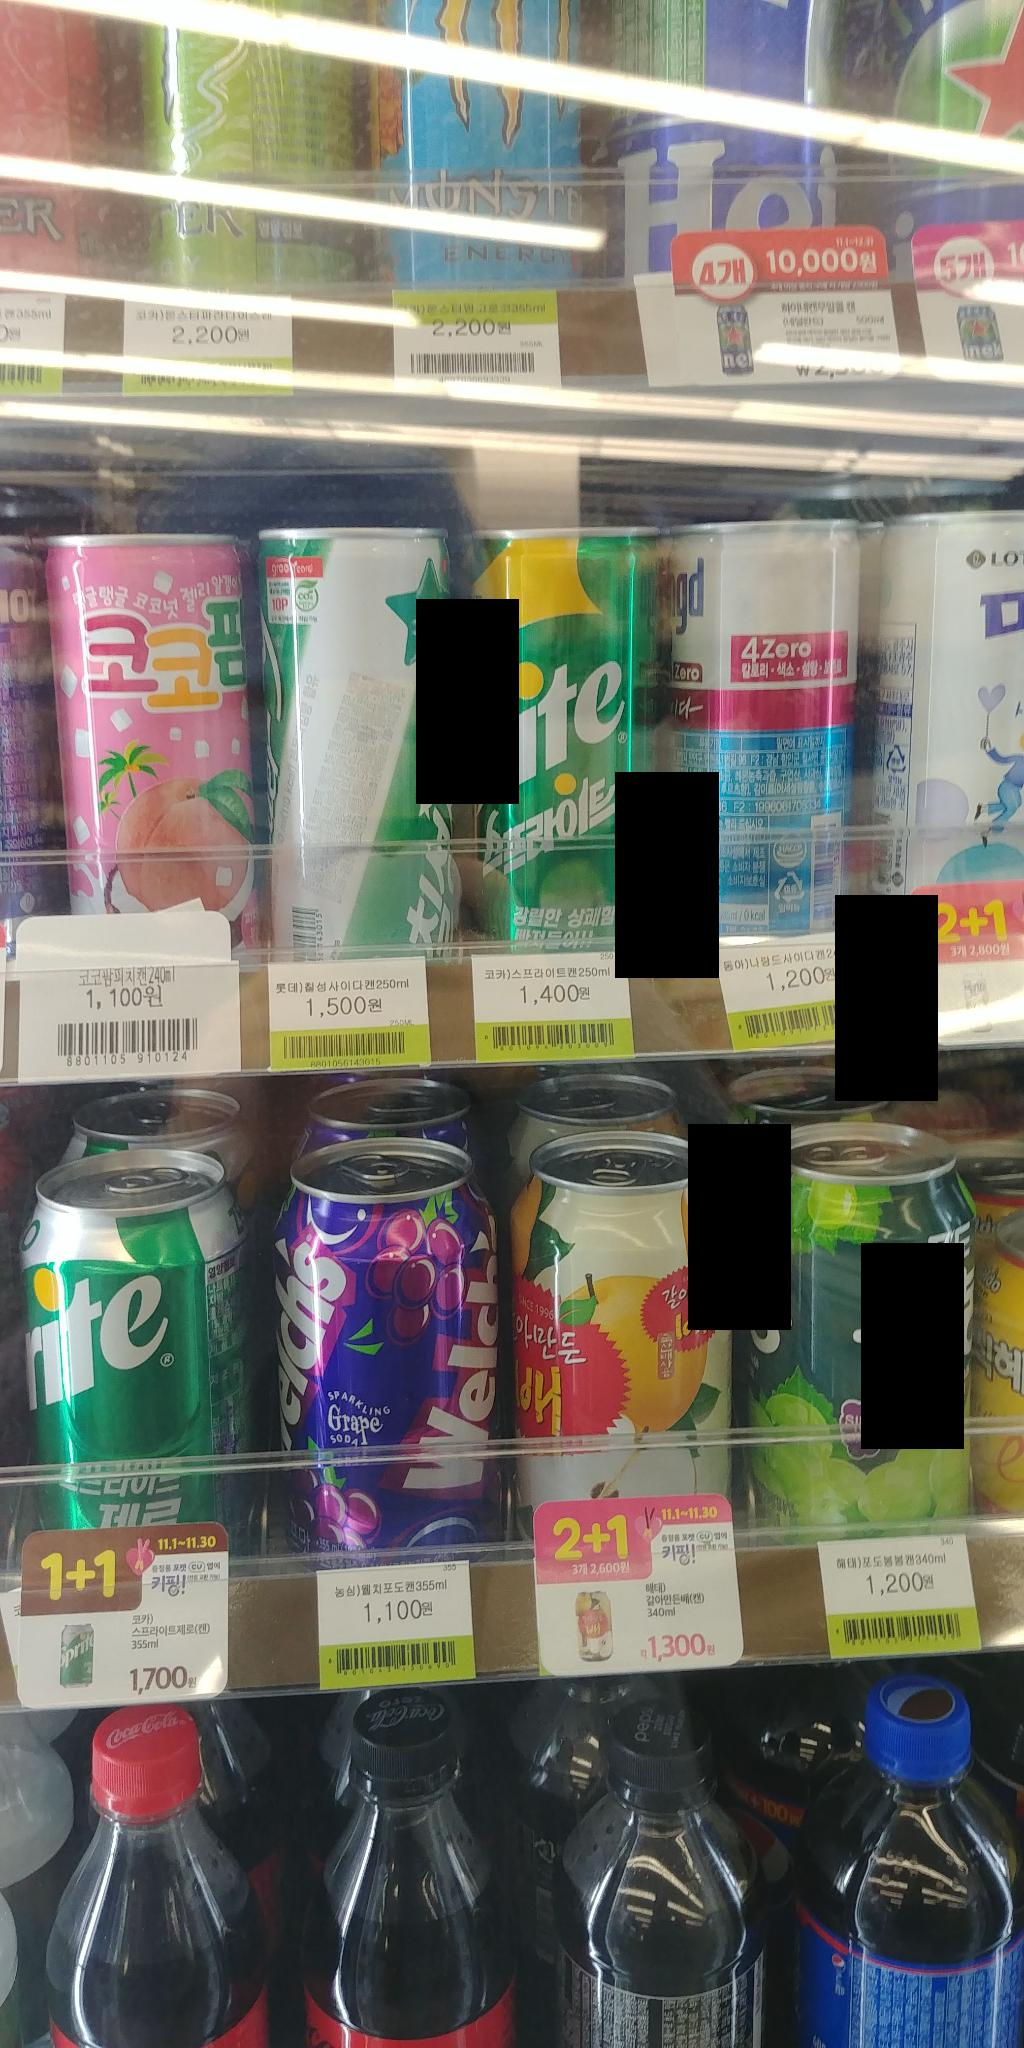narangdcider: (666, 512, 866, 934)
welchs_grape: (269, 1147, 521, 1565)
